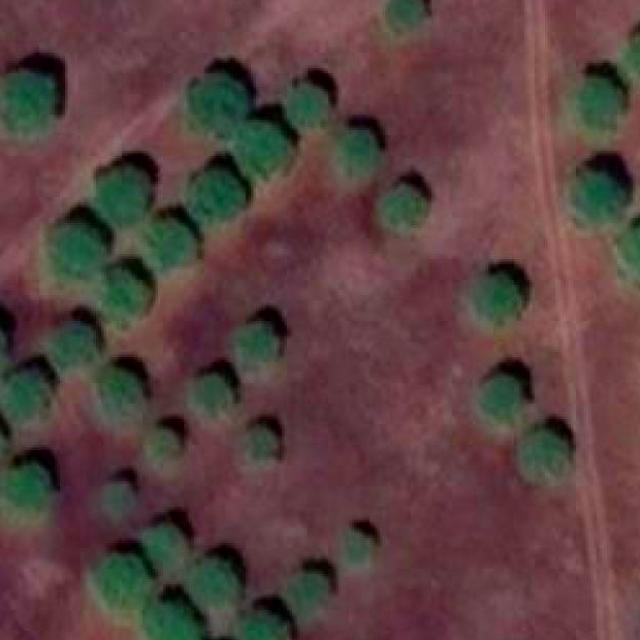Tree: (0, 70, 65, 130), (44, 223, 108, 278), (189, 71, 249, 126), (188, 166, 253, 213), (237, 122, 289, 180), (98, 550, 148, 610), (140, 594, 205, 640), (3, 366, 55, 420), (571, 169, 622, 224), (578, 73, 628, 128), (514, 424, 566, 476), (5, 464, 55, 518), (189, 556, 240, 608), (96, 368, 146, 419), (103, 166, 150, 218), (475, 269, 521, 321), (52, 319, 98, 371), (333, 125, 375, 180), (284, 84, 330, 133), (103, 272, 148, 317), (150, 218, 194, 264), (480, 376, 526, 420), (191, 371, 235, 417), (382, 185, 426, 229), (142, 522, 184, 567), (238, 321, 274, 368), (240, 607, 285, 640), (292, 577, 331, 613), (617, 223, 640, 283), (333, 532, 375, 564), (244, 422, 278, 458), (392, 0, 428, 32), (103, 478, 132, 517), (150, 424, 180, 460), (626, 28, 640, 77)
